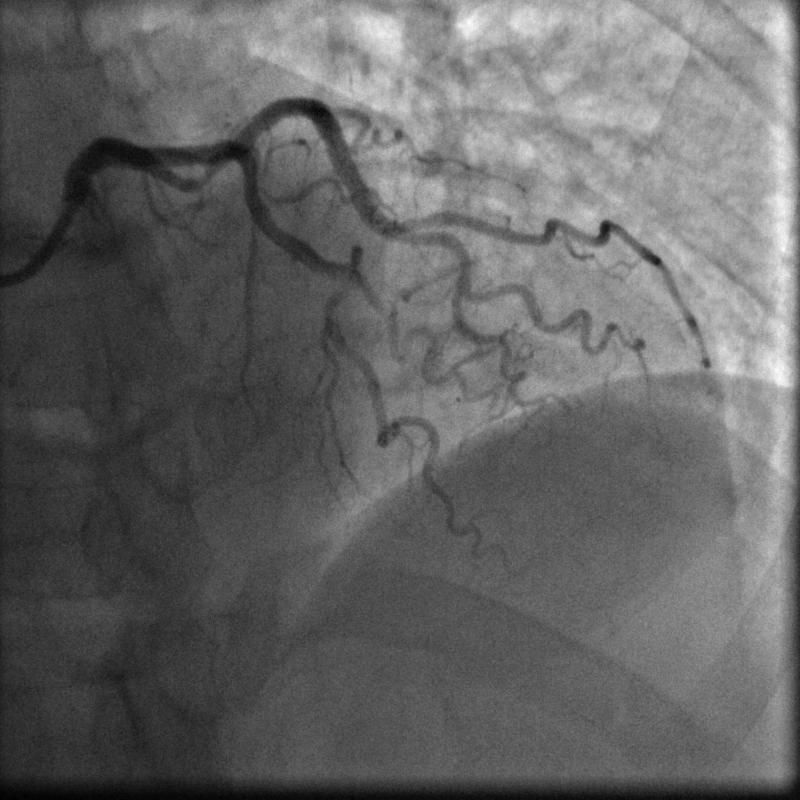Stenosis: (174, 150, 223, 191)
